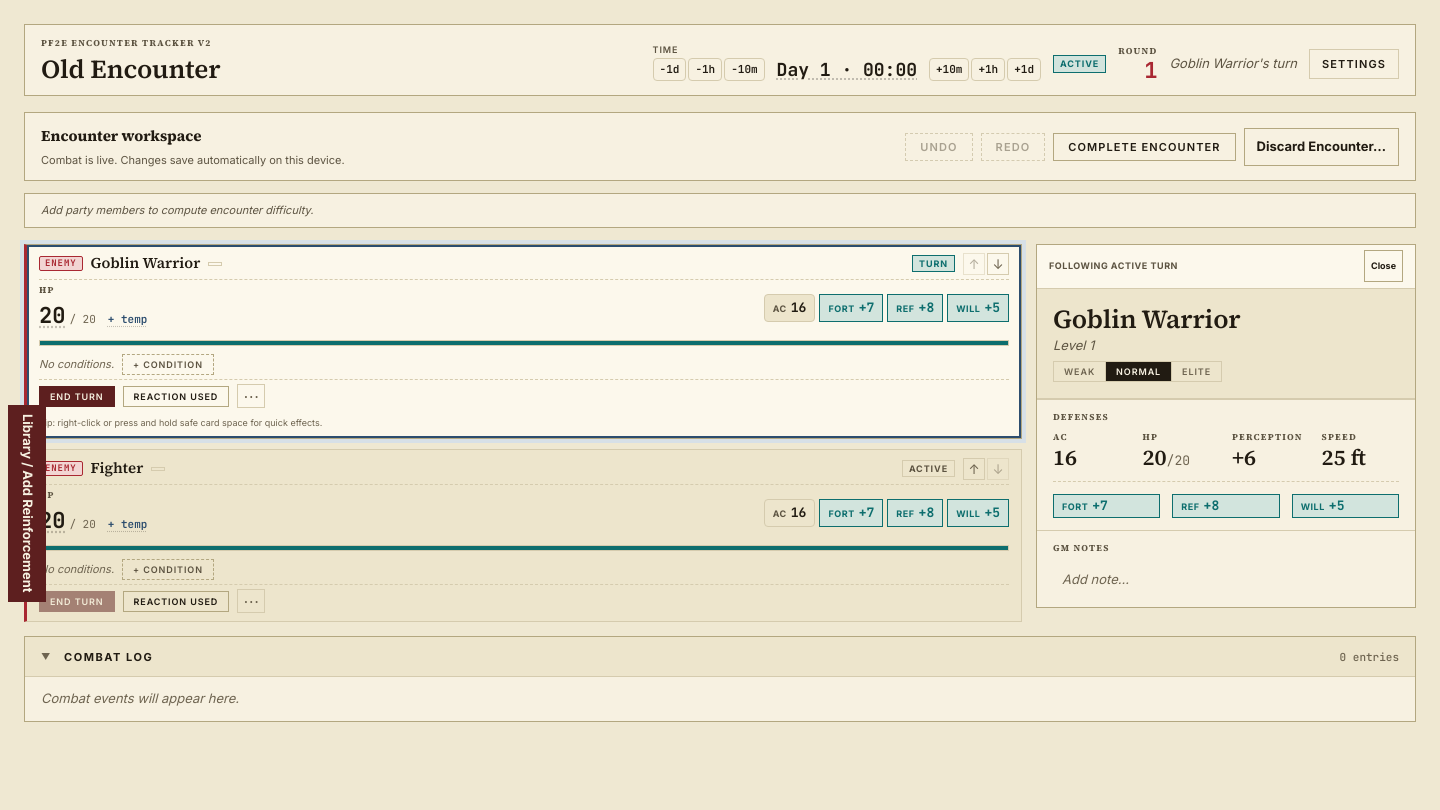
encounter lifecycle flow › uses a contextual discard confirmation before starting a new encounter
The image size is (1440, 810).
Expected: the heading "Old Encounter" is shown, [41,54,220,83]
What coordinates should you click on to do the following:
click the button "Complete Encounter"
I would click on:
 (1144, 147)
Its box is [1053,133,1236,161].
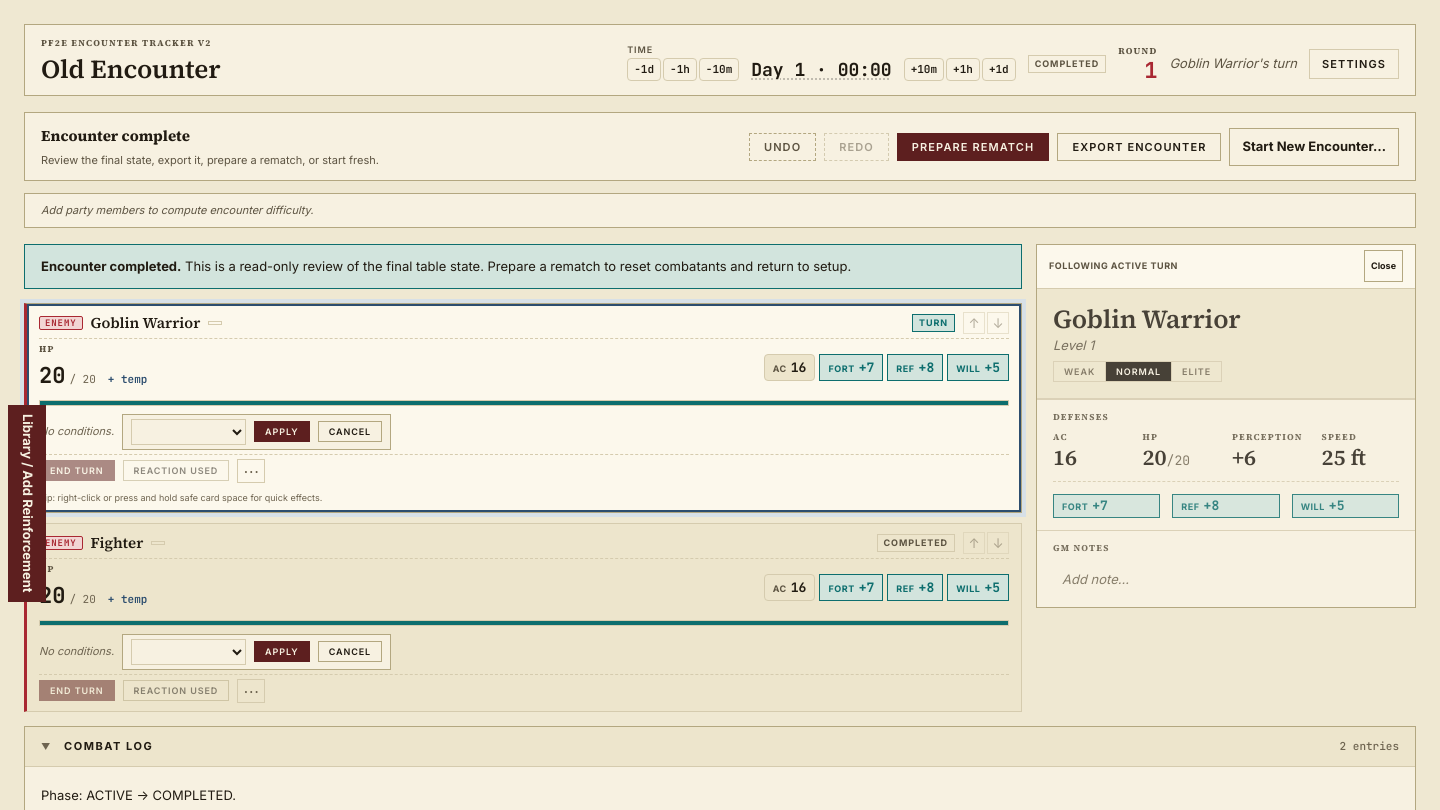
What coordinates should you click on to do the following:
click the button "Start New Encounter…"
I would click on:
 (1314, 147)
Its box is [1229,128,1399,166].
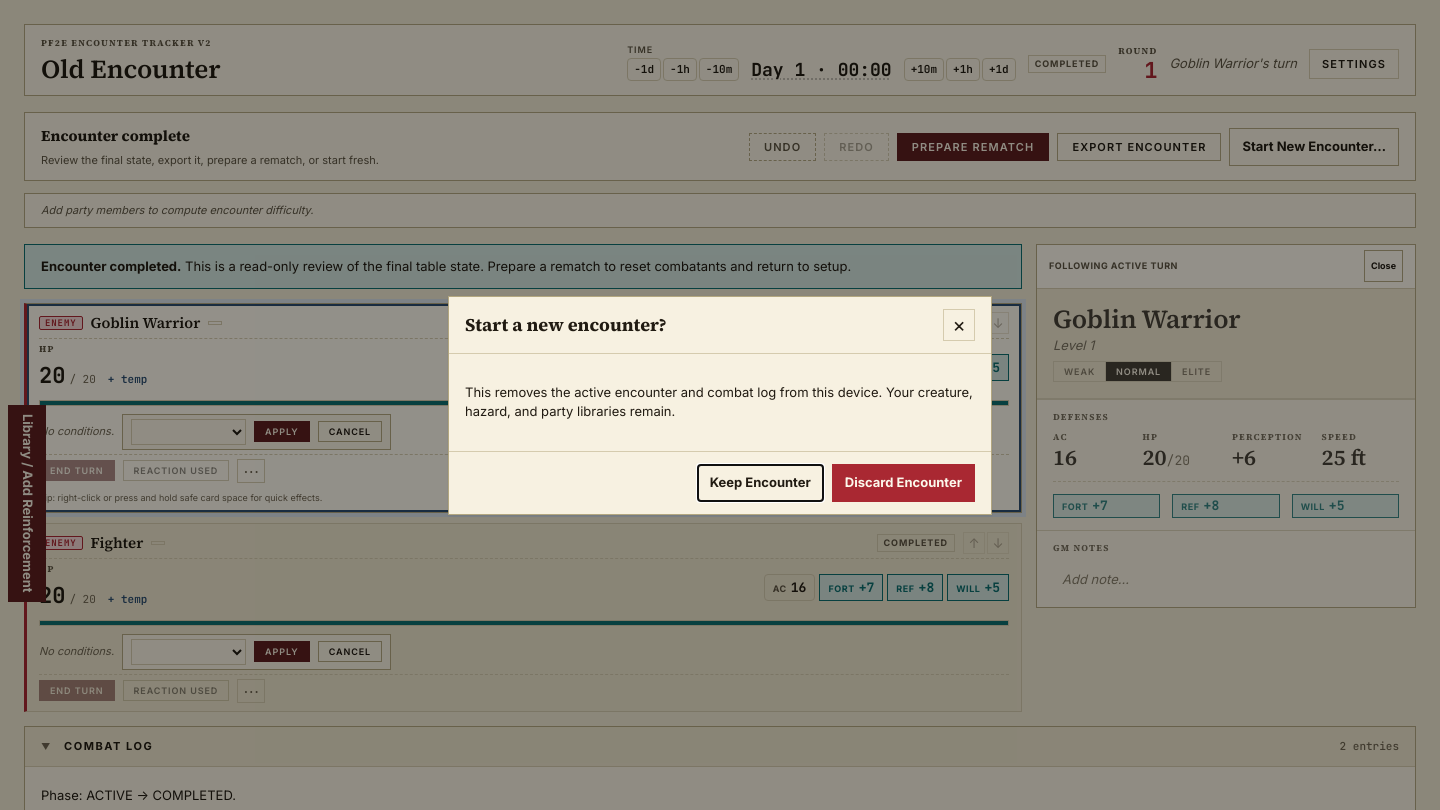
Expected: the heading "Old Encounter" is shown, [41,54,220,83]
Now the dialog "Start a new encounter?" is shown, box [448,296,992,514]
What coordinates should you click on to do the following:
click the button "Discard Encounter"
I would click on:
 (903, 482)
Its box is [832,464,975,502].
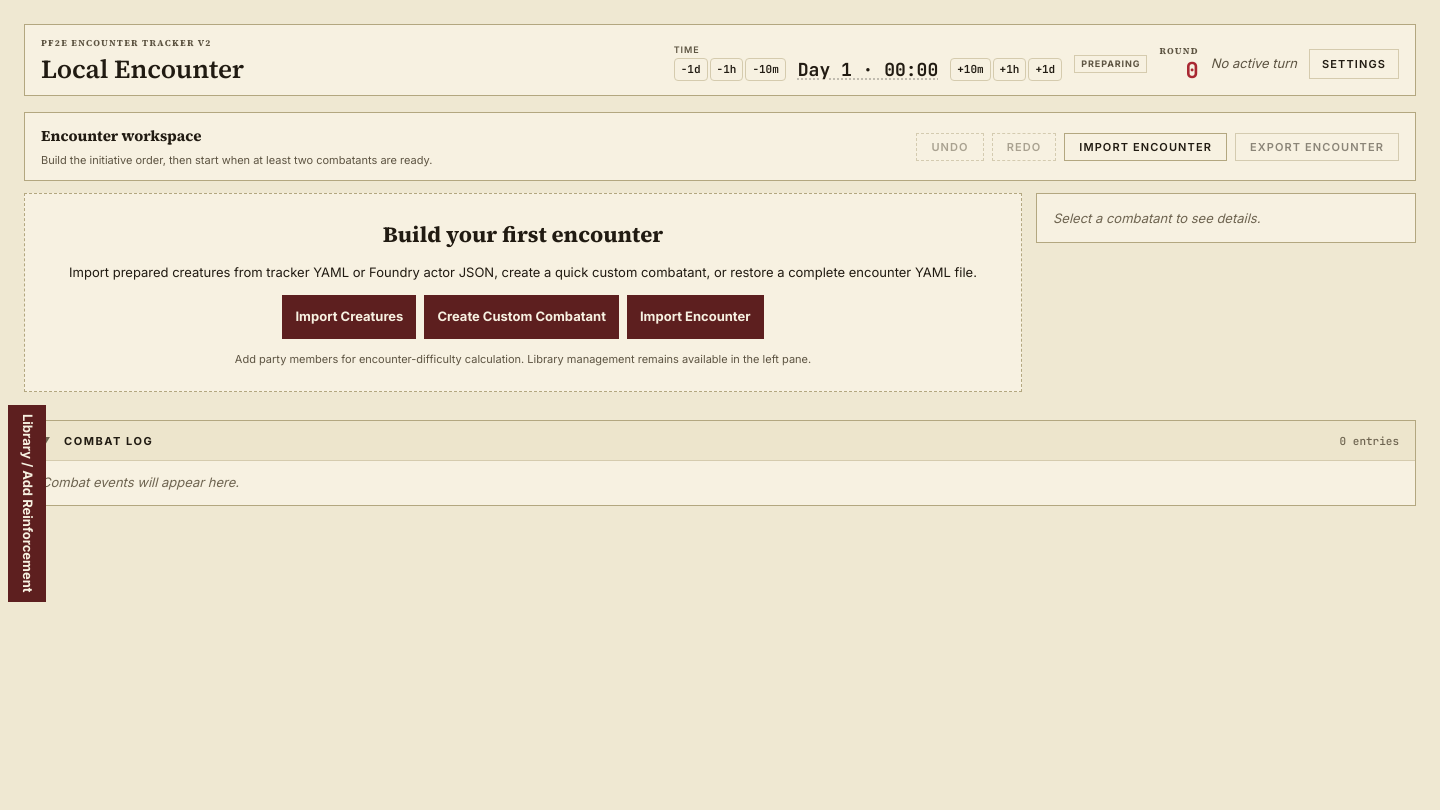
Now the heading "Old Encounter" is gone
Now the heading "Local Encounter" is shown, box [41,54,244,83]
